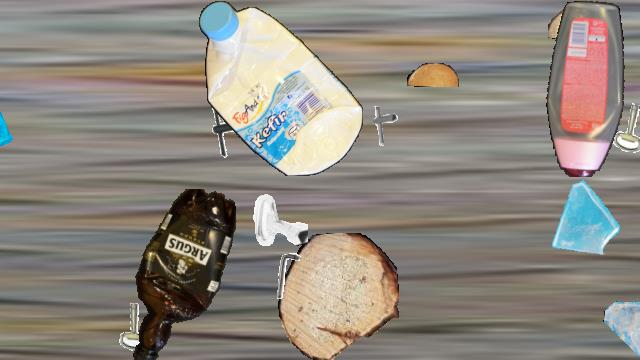glass: (541, 179, 621, 259), (603, 299, 640, 359), (0, 99, 16, 163)
metal: (201, 99, 261, 159), (250, 191, 308, 249), (109, 299, 165, 355), (263, 249, 317, 303), (605, 100, 640, 156), (361, 103, 405, 147)
plastic: (199, 1, 363, 175), (123, 189, 243, 359), (545, 1, 629, 177)
wood: (278, 233, 398, 359), (548, 9, 622, 41), (407, 63, 459, 87)
